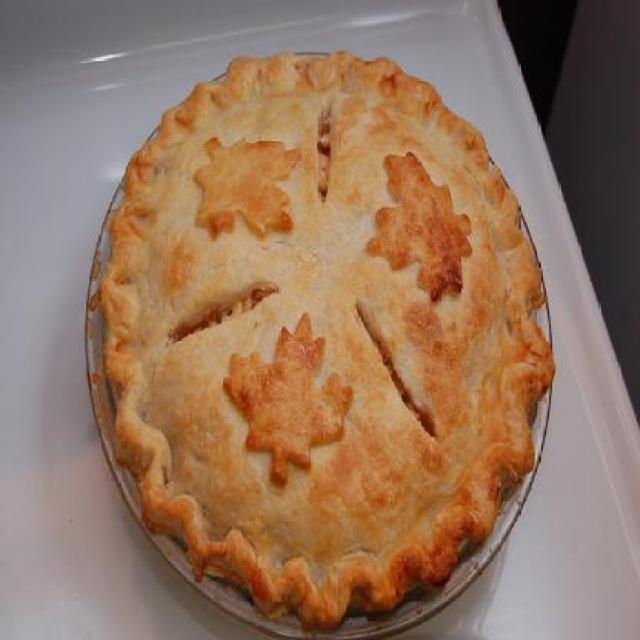Apple: (94, 51, 548, 629)
